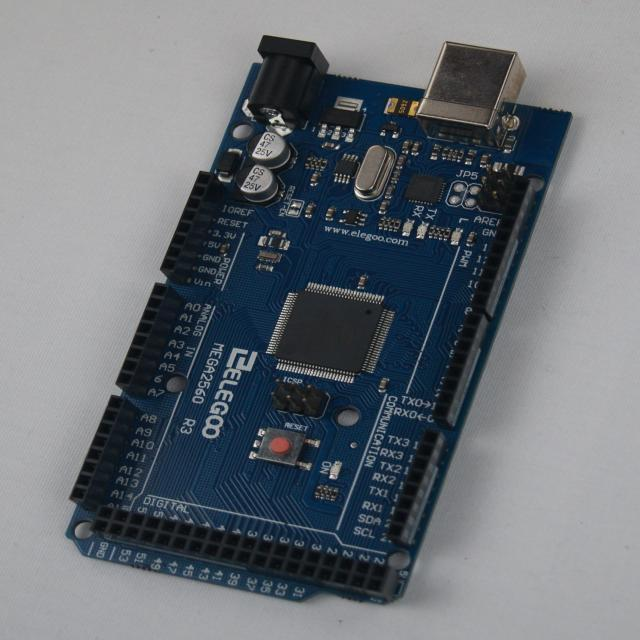Arduino Mega 2560 -Blue-: (70, 37, 571, 603)
